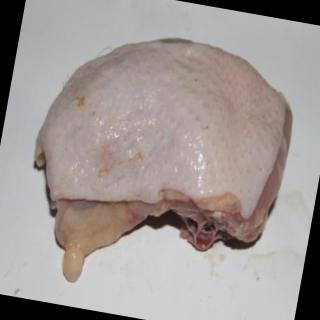Ayam: (12, 16, 306, 316)
